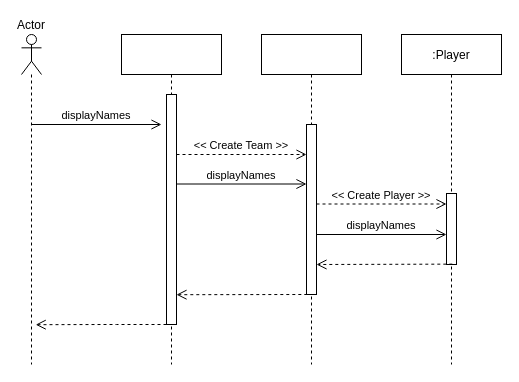
The diagram is 519 pixels wide and 382 high, and some of its shapes have lost their labels. The shapes that lost their labels are listed below. From the top down, each one's box as (x1, y1, x2, y2) in pixels, then its label:
(120, 34, 222, 364): :Main
(260, 34, 362, 364): :Team
